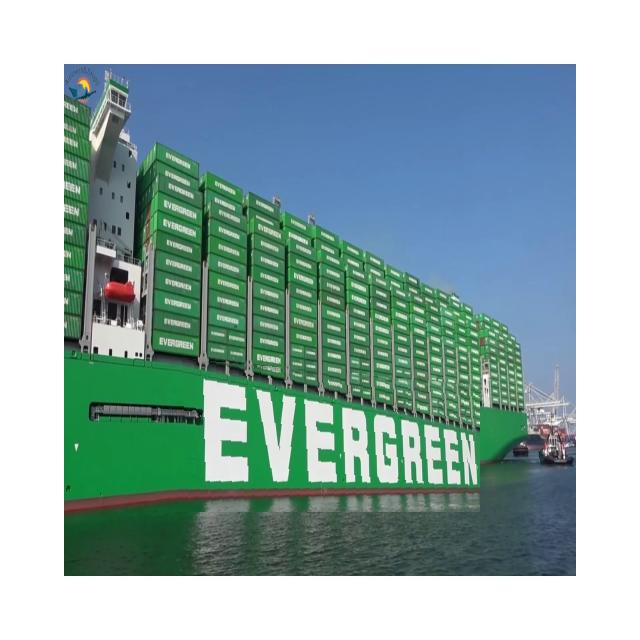OCR: (176, 358, 480, 512)
